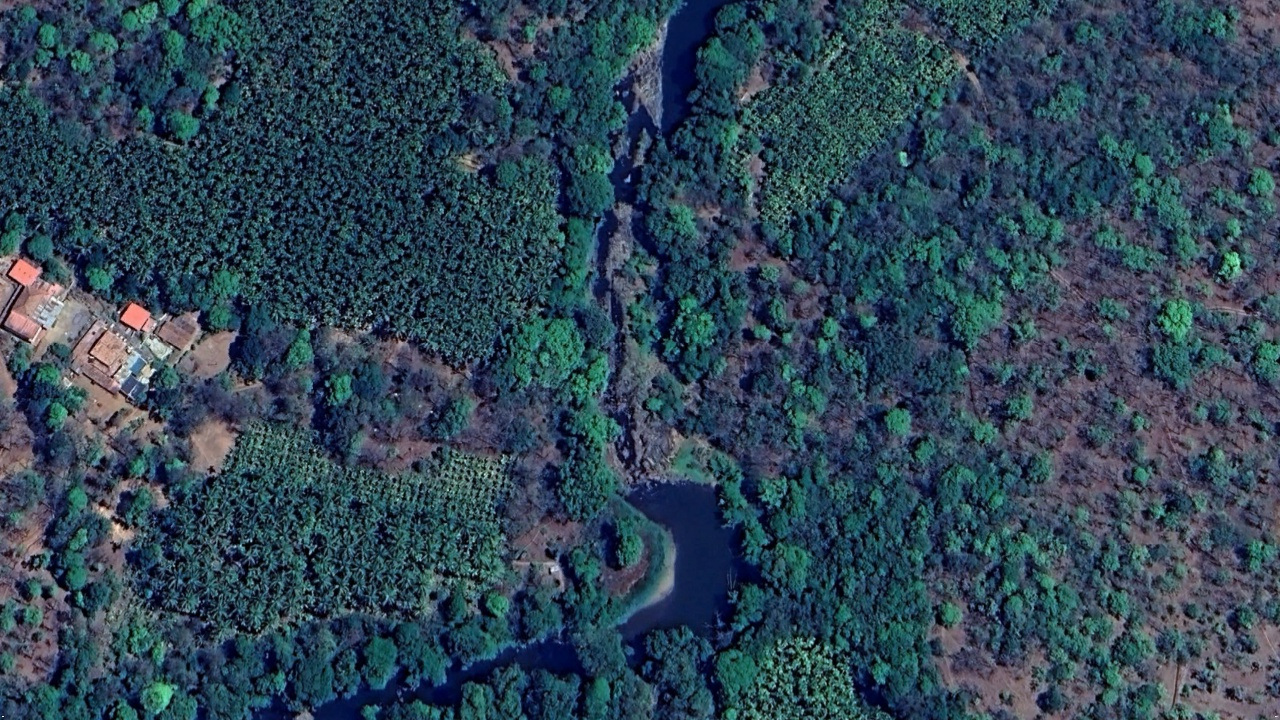arecanut: (10, 17, 535, 325), (152, 465, 471, 592), (754, 17, 940, 200), (739, 657, 851, 720)
